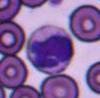N: (26, 25, 72, 74)
